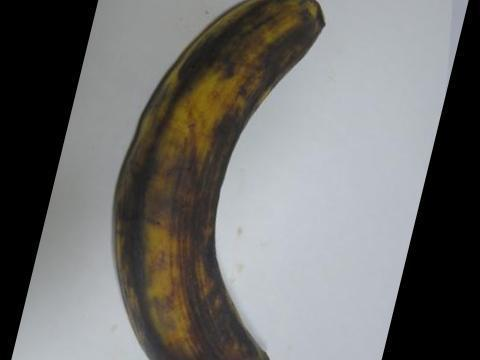overripe: (97, 0, 347, 359)
